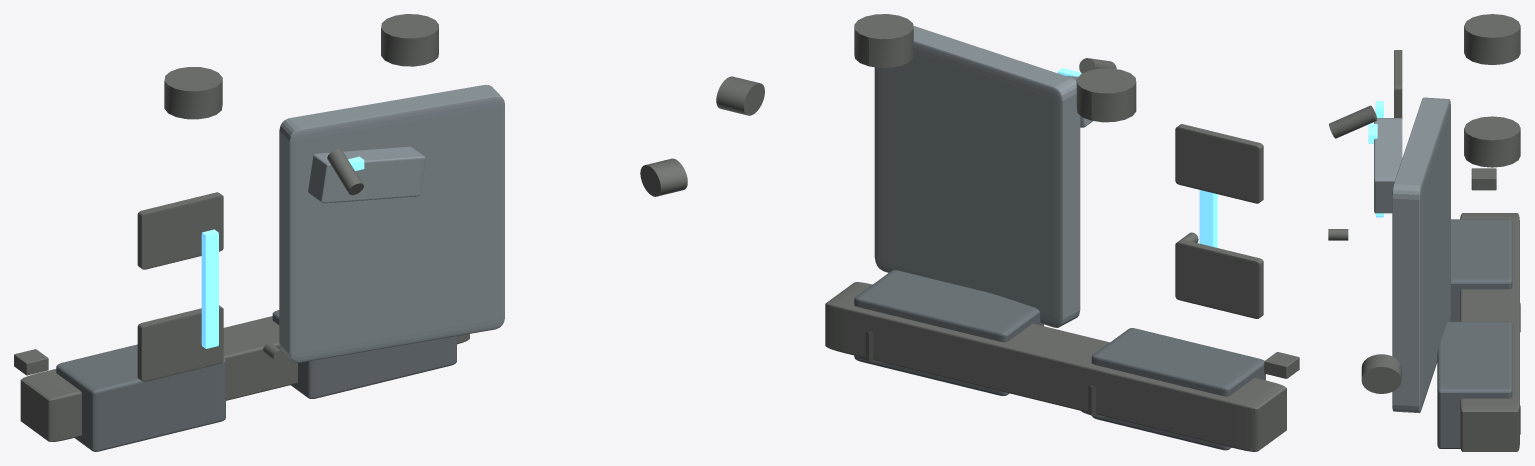
File: s-u13-specter-main-battle-tank-lod2.glb
3 views of the same model, side by side, from view 1: azimuth 30°, elevation 25°; view 2: azimuth 150°, elevation 25°; view 3: azimuth 270°, elevation 25° (orthographic). The views are drawn at different scales.
Parts seen in each view (by area): view 1: glacis, track_pod_rr, track_right, track_pod_fr, engine_grille_03, stealth_cheek_left, engine_grille_01, wheel_l_2, wheel_l_4, rear_sensor_bar, muzzle, smoke_launcher_left (+1 smaller); view 2: glacis, track_right, track_pod_fr, track_pod_rr, engine_grille_01, engine_grille_03, wheel_l_2, wheel_l_4, muzzle, rear_sensor_bar, tow_hook_right; view 3: glacis, track_pod_fr, track_right, track_pod_rr, wheel_l_2, wheel_l_4, stealth_cheek_left, muzzle, smoke_launcher_left, engine_grille_03, tow_hook_right, antenna_base.
Boxes of the visible parts, x1,y1,x2,y2 form: glacis: (279,84,504,362); track_pod_rr: (56,344,225,451); track_right: (20,316,469,441); track_pod_fr: (272,310,456,398); engine_grille_03: (137,192,223,269); stealth_cheek_left: (308,146,425,203); engine_grille_01: (137,305,223,381); wheel_l_2: (164,67,222,119); wheel_l_4: (381,14,438,66); rear_sensor_bar: (201,229,218,348); muzzle: (640,158,687,196); smoke_launcher_left: (327,149,363,195); glacis: (874,25,1080,327); track_right: (825,282,1286,451); track_pod_fr: (854,270,1043,395); track_pod_rr: (1091,328,1265,450); engine_grille_01: (1175,239,1263,318); engine_grille_03: (1175,124,1263,203); wheel_l_2: (1076,68,1136,122); wheel_l_4: (854,14,913,67); muzzle: (716,76,764,115); rear_sensor_bar: (1199,190,1217,247); tow_hook_right: (1264,352,1299,378); glacis: (1392,97,1450,413); track_pod_fr: (1437,321,1512,448); track_right: (1460,213,1519,451); track_pod_rr: (1450,219,1512,321); wheel_l_2: (1464,14,1520,64); wheel_l_4: (1464,116,1520,167); stealth_cheek_left: (1374,118,1402,213); muzzle: (1361,354,1401,393); smoke_launcher_left: (1329,105,1377,138); engine_grille_03: (1394,50,1402,118); tow_hook_right: (1471,168,1496,190); antenna_base: (1328,229,1348,240).
Size of what is drawn, in the model's own units: 8.11 by 4.14 by 2.31.
